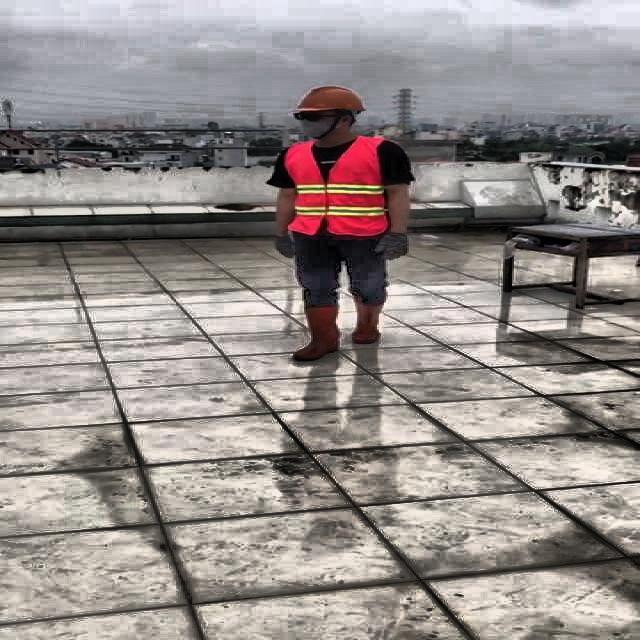safety_helmet: (294, 85, 365, 114)
safety_jacket: (282, 138, 388, 236)
